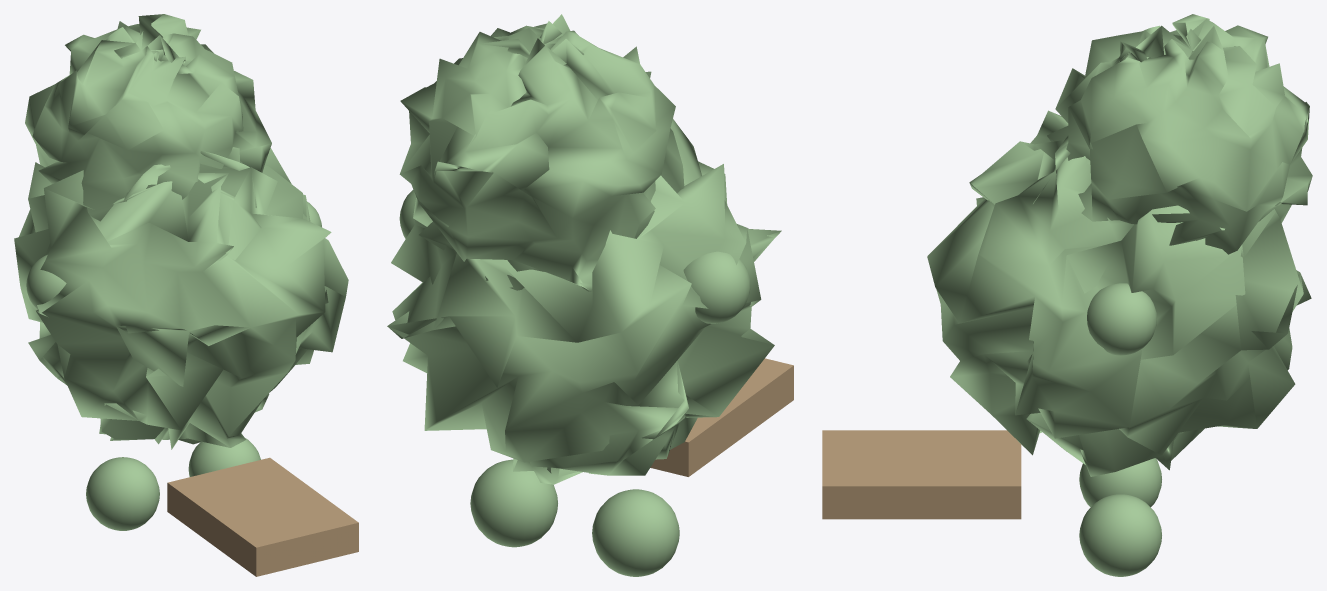
Rendered from clay_beaver_tree.glb.
The picture shows the model from 3 angles, left to right: view 1: azimuth 30°, elevation 25°; view 2: azimuth 150°, elevation 25°; view 3: azimuth 270°, elevation 25°; orthographic projection. The views are drawn at different scales.
Parts seen in each view (by area): view 1: tail; view 2: tail; view 3: tail.
Boxes of the visible parts, x1,y1,x2,y2 form: tail: [14, 14, 358, 576]; tail: [387, 14, 793, 576]; tail: [822, 14, 1312, 576].
Size of the model in its own units: 1.24 by 1.91 by 1.63.
